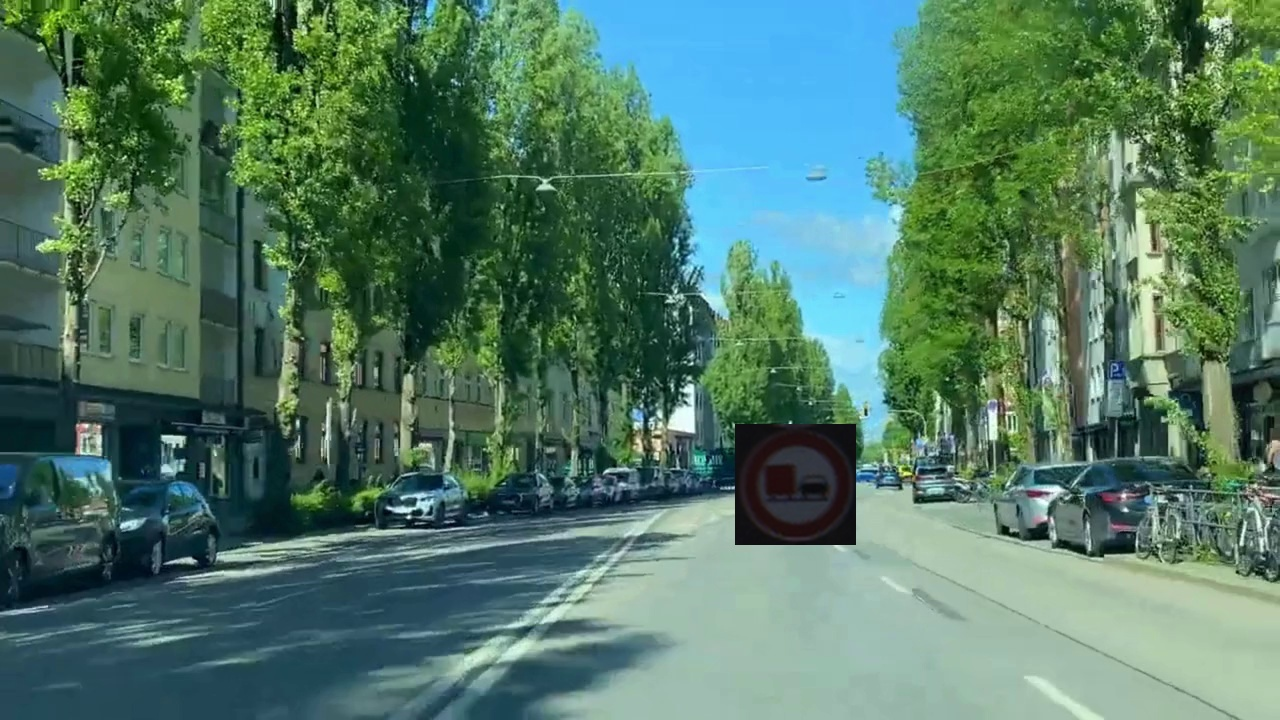No pass >3.5t: (735, 424, 856, 545)
